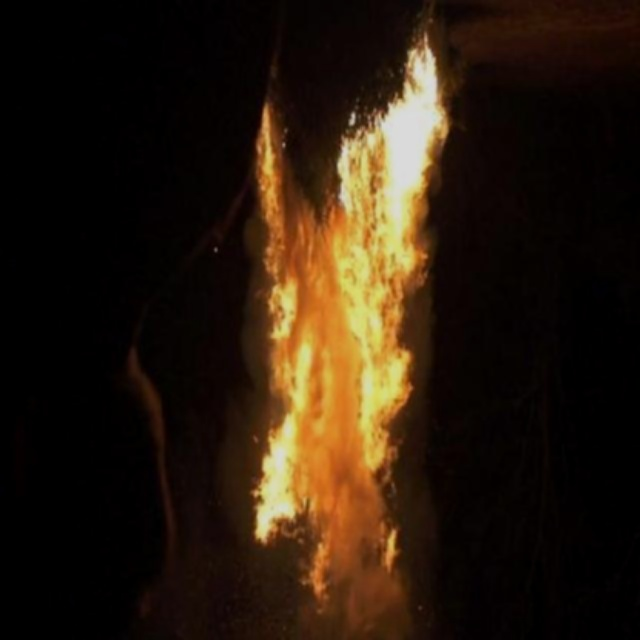fire: (215, 60, 492, 638)
